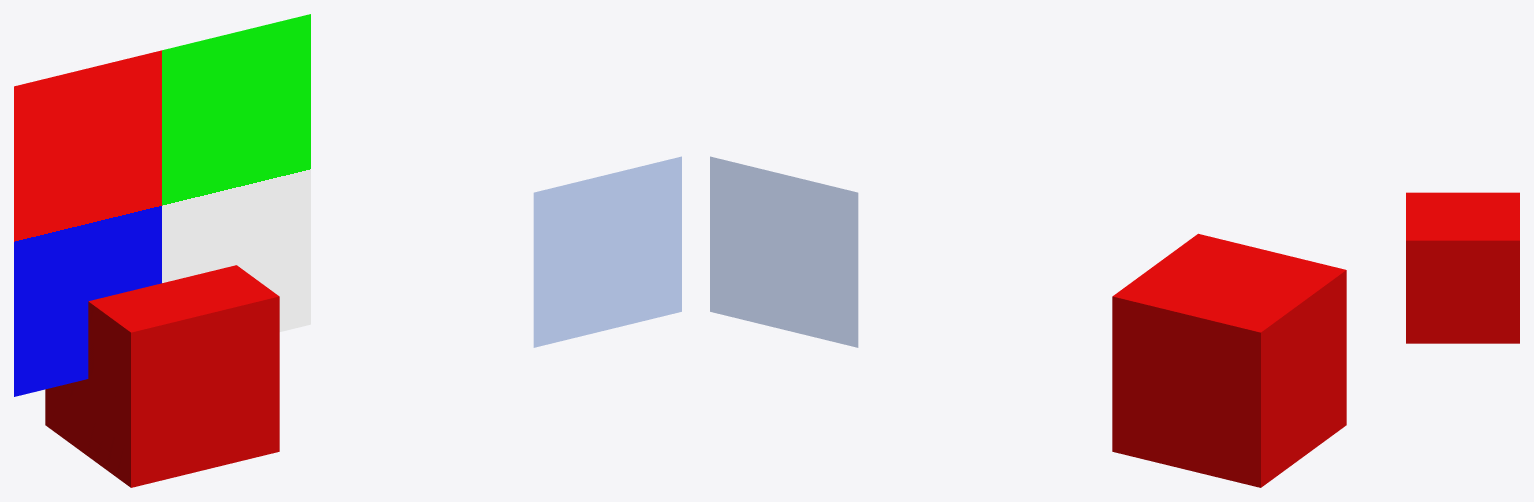
File: parts.glb
The picture shows the model from 3 angles, left to right: view 1: azimuth 30°, elevation 25°; view 2: azimuth 150°, elevation 25°; view 3: azimuth 270°, elevation 25°; orthographic projection. The views are drawn at different scales.
Visible parts, largest first — view 1: panel, base, pane; view 2: base, pane; view 3: base.
Part boxes in pixels (bbox=[...]): panel: bbox=[14, 14, 310, 396]; base: bbox=[45, 265, 279, 487]; pane: bbox=[533, 156, 681, 347]; base: bbox=[1112, 233, 1346, 487]; pane: bbox=[710, 156, 858, 347]; base: bbox=[1406, 192, 1519, 343].
Size of the model in its own units: 4.5 by 2.5 by 1.
Materials: 3 (1 with a texture image).
